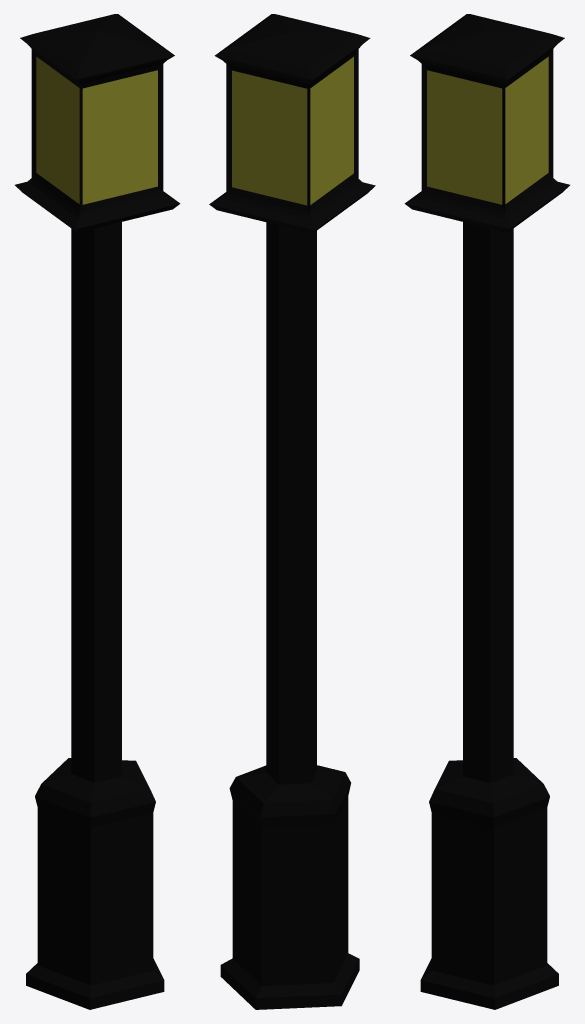
Rendered from lamp.obj.
The picture shows the model from 3 angles, left to right: view 1: azimuth 30°, elevation 25°; view 2: azimuth 150°, elevation 25°; view 3: azimuth 330°, elevation 25°; orthographic projection.
Parts seen in each view (by area): view 1: Lamp_Circle, LampLight_Circle.001; view 2: Lamp_Circle, LampLight_Circle.001; view 3: Lamp_Circle, LampLight_Circle.001.
Boxes of the visible parts, <box> form: Lamp_Circle: <box>15,14,180,1009</box>; LampLight_Circle.001: <box>36,56,157,204</box>; Lamp_Circle: <box>209,14,375,1009</box>; LampLight_Circle.001: <box>232,57,353,205</box>; Lamp_Circle: <box>404,14,569,1009</box>; LampLight_Circle.001: <box>427,56,548,204</box>.
Bounding box in the file's own units: 0.073 × 0.5481 × 0.0703.
